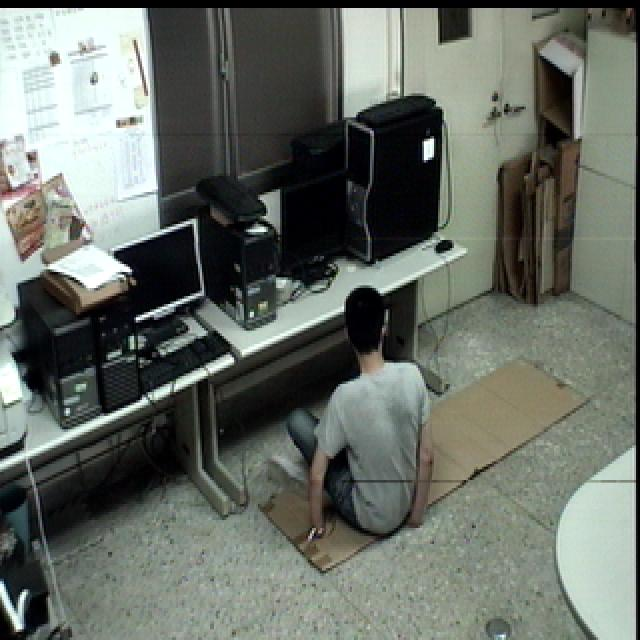sit: (266, 279, 444, 552)
